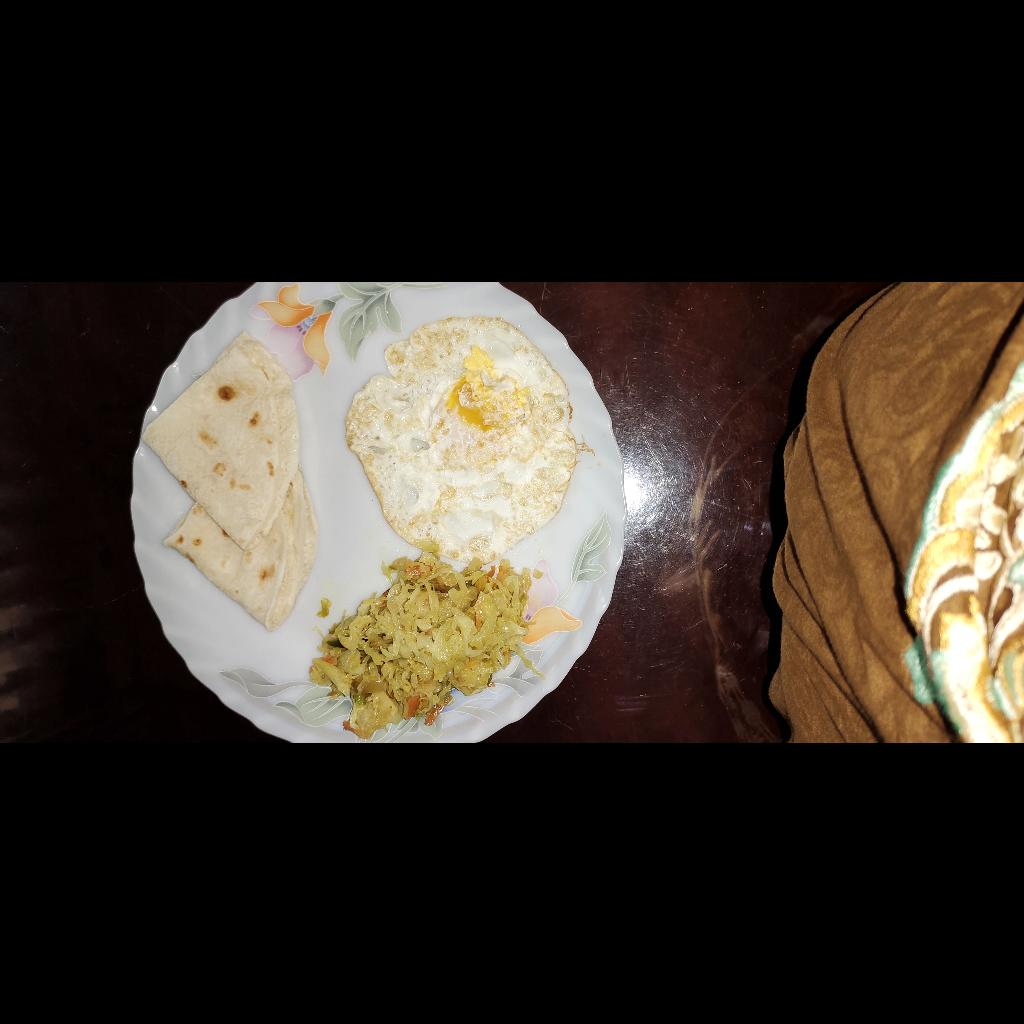cabbage: (4, 591, 197, 815)
egg: (181, 625, 426, 861)
ruti: (119, 419, 408, 604)
